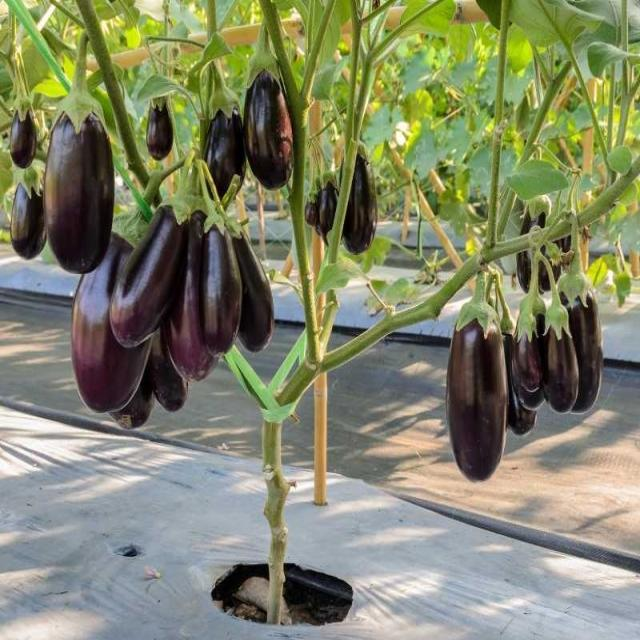Eggplant-r1Ob: (44, 32, 114, 273), (109, 152, 195, 346), (71, 207, 151, 411), (446, 271, 508, 481), (559, 216, 604, 412), (244, 23, 292, 189), (200, 199, 242, 356), (227, 219, 274, 351), (543, 258, 579, 412), (342, 146, 378, 254), (9, 45, 38, 168), (10, 165, 46, 259)
